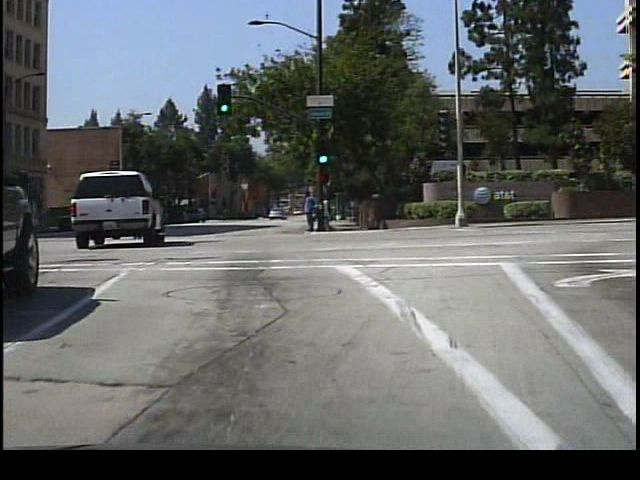person: (300, 184, 319, 233), (315, 192, 333, 233)
